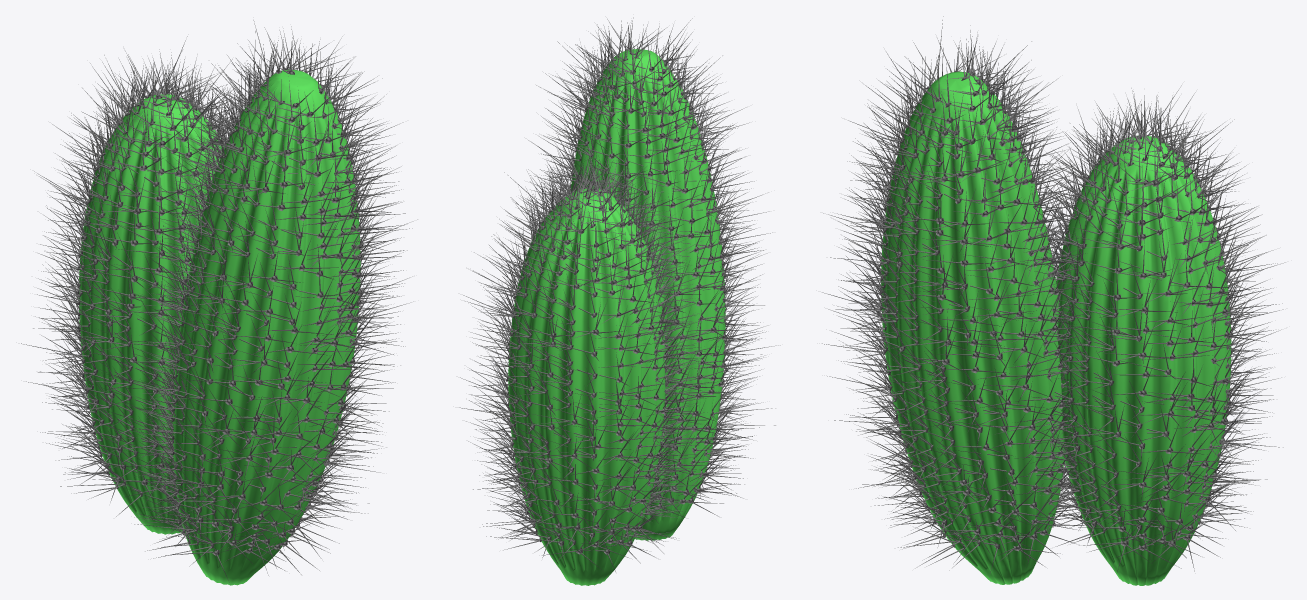
The model's file is cactus.fbx.
The picture shows the model from 3 angles, left to right: view 1: azimuth 30°, elevation 25°; view 2: azimuth 150°, elevation 25°; view 3: azimuth 270°, elevation 25°; orthographic projection. The views are drawn at different scales.
Visible parts, largest first — view 1: arch24_003, arch24_004; view 2: arch24_003, arch24_004; view 3: arch24_003, arch24_004.
Boxes of the visible parts, x1,y1,x2,y2 form: arch24_003: [78, 69, 360, 585]; arch24_004: [21, 20, 417, 582]; arch24_003: [508, 49, 725, 585]; arch24_004: [459, 17, 780, 571]; arch24_003: [881, 71, 1231, 585]; arch24_004: [822, 16, 1285, 573].
Size of the model in its own units: 0.4149 by 0.775 by 0.5972.
